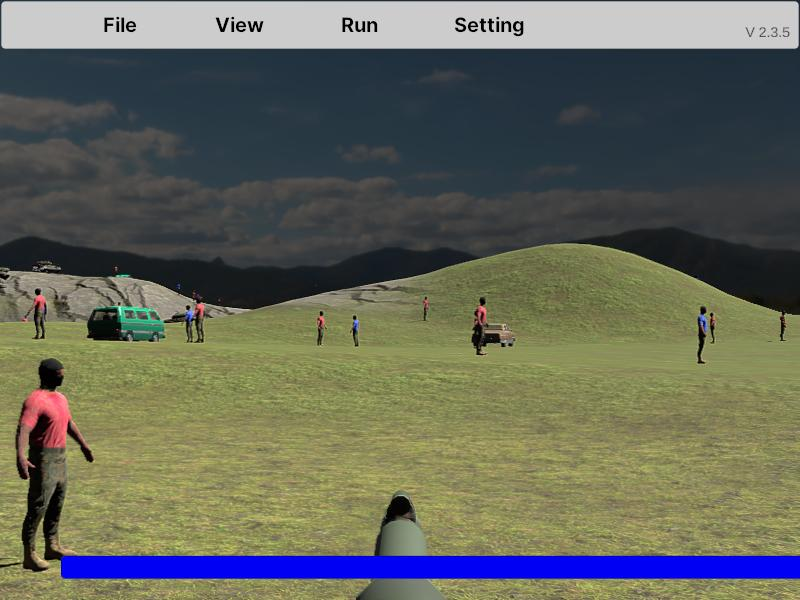Human: (17, 356, 94, 571), (27, 287, 47, 340)
car: (87, 306, 165, 344), (472, 322, 516, 348)
